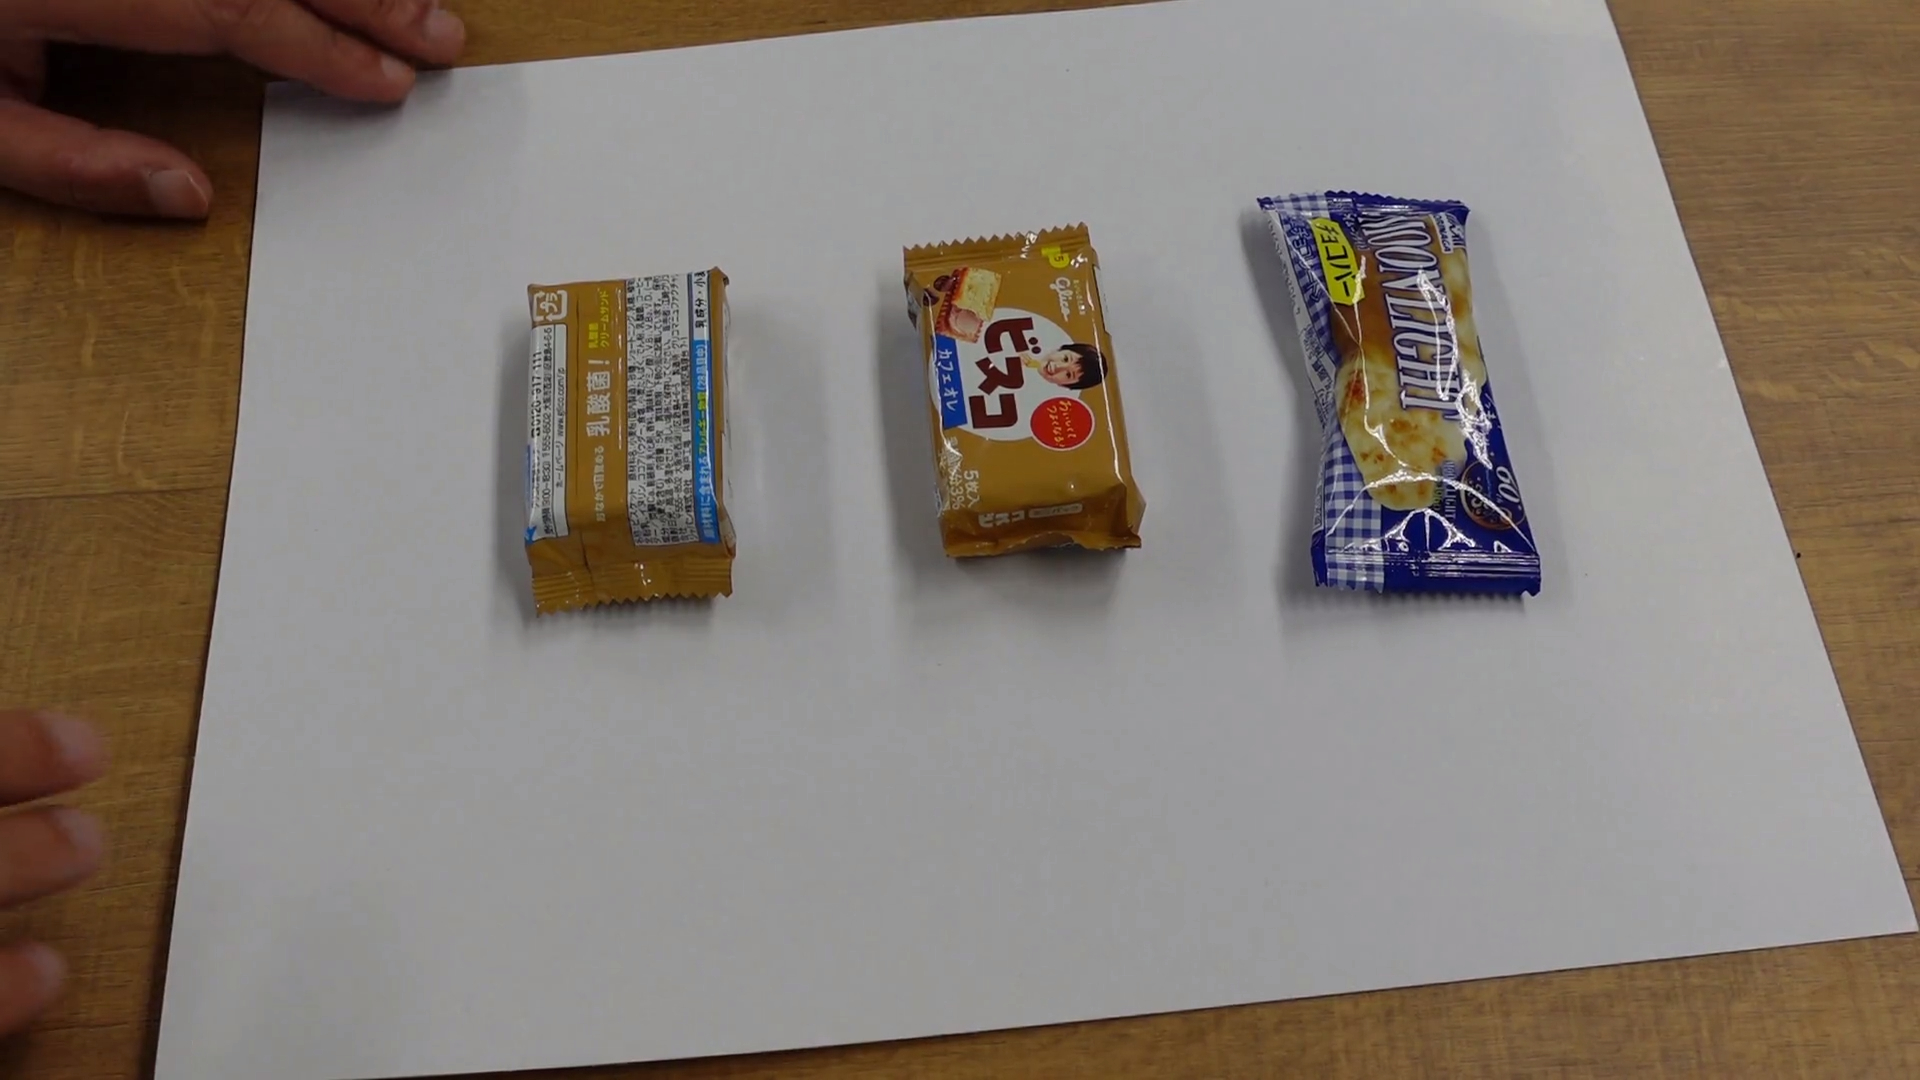BISCO_CafeAuLet: (527, 280, 741, 604)
